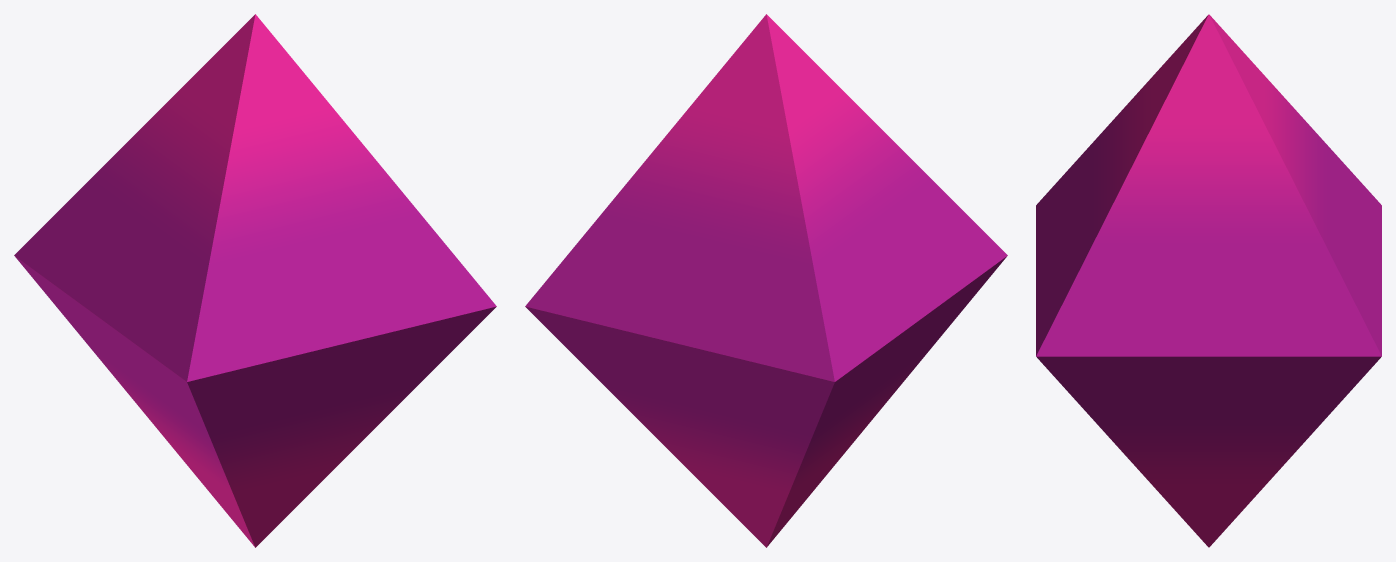
The model's file is pinkEnemy.FBX.
3 views of the same model, side by side, from view 1: azimuth 30°, elevation 25°; view 2: azimuth 150°, elevation 25°; view 3: azimuth 270°, elevation 25° (orthographic).
Visible parts, largest first — view 1: Pyramid001, Pyramid002; view 2: Pyramid001, Pyramid002; view 3: Pyramid001, Pyramid002.
Boxes of the visible parts, left/top/right/bottom form: Pyramid001: left=14, top=14, right=496, bottom=381; Pyramid002: left=15, top=256, right=496, bottom=547; Pyramid001: left=525, top=14, right=1007, bottom=381; Pyramid002: left=525, top=256, right=1006, bottom=547; Pyramid001: left=1036, top=14, right=1381, bottom=356; Pyramid002: left=1036, top=356, right=1381, bottom=547.
Size of the model in its own units: 27.18 by 44.76 by 26.28.
1 material, 1 textured.
